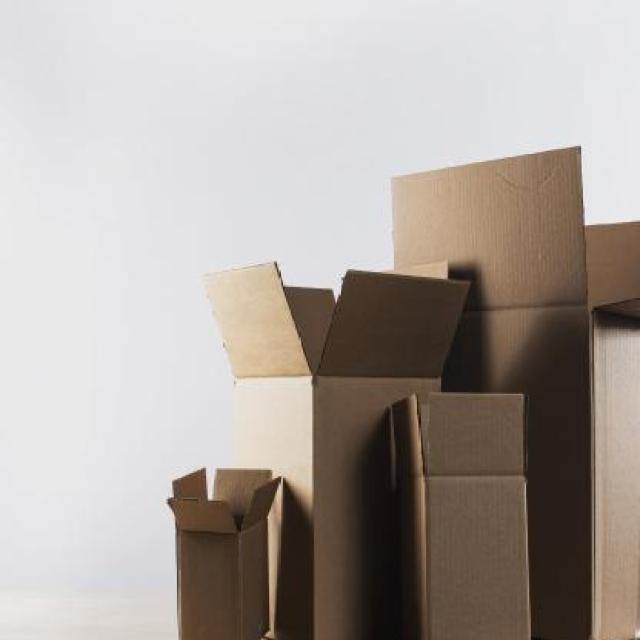box: (387, 150, 638, 640), (194, 249, 480, 640), (388, 371, 544, 640), (166, 452, 285, 640)
